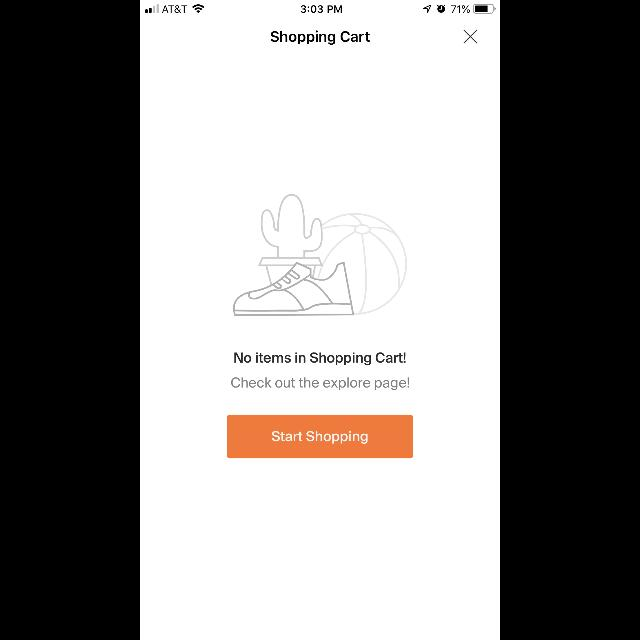icon: (464, 30, 478, 44)
image: (232, 194, 408, 316)
text: (234, 352, 406, 366), (231, 378, 409, 390), (270, 31, 370, 45)
textbutton: (227, 416, 413, 458)
uppertaskbar: (140, 0, 500, 14)
